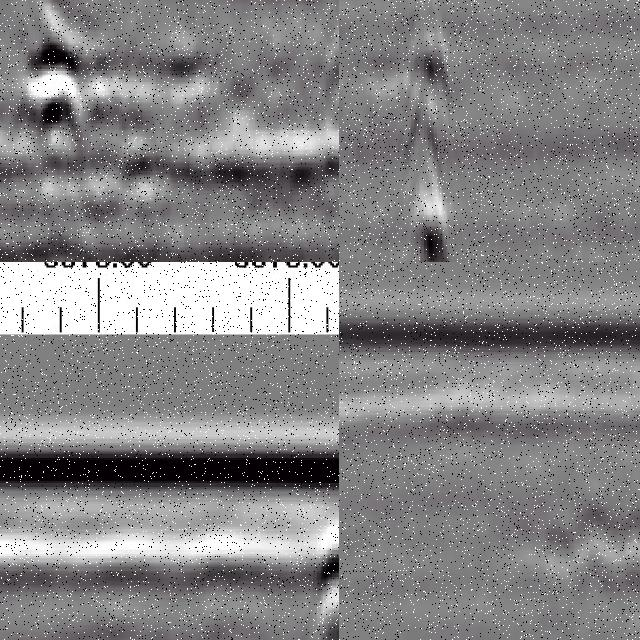crack: (407, 1, 452, 263), (308, 519, 340, 640)
loose: (22, 26, 204, 181), (550, 460, 640, 602)
